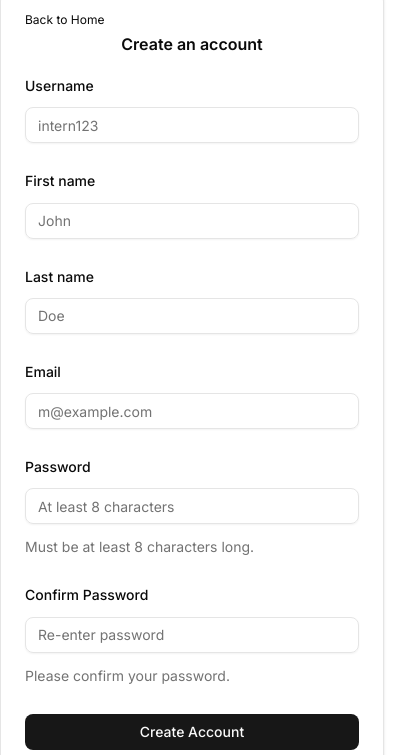
Scenario: SignupCard › validates email format
Type "newuser" into the field labelled "Username" at point(192, 125), box [25,107,359,143]
Type "New" into the field labelled "First name" at point(192, 220), box [25,202,359,238]
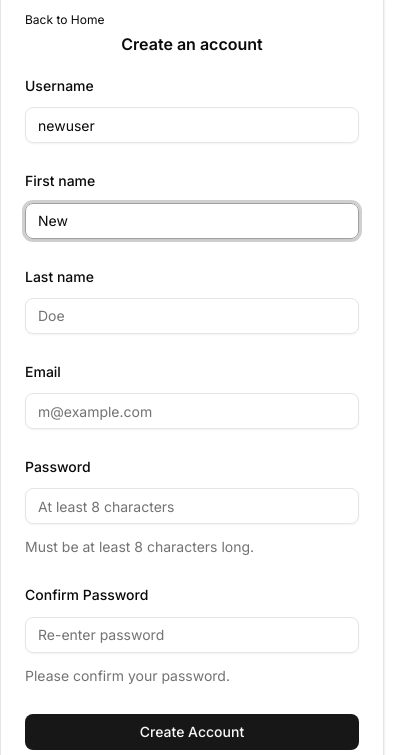
Type "User" into the field labelled "Last name" at point(192, 316), box [25,298,359,334]
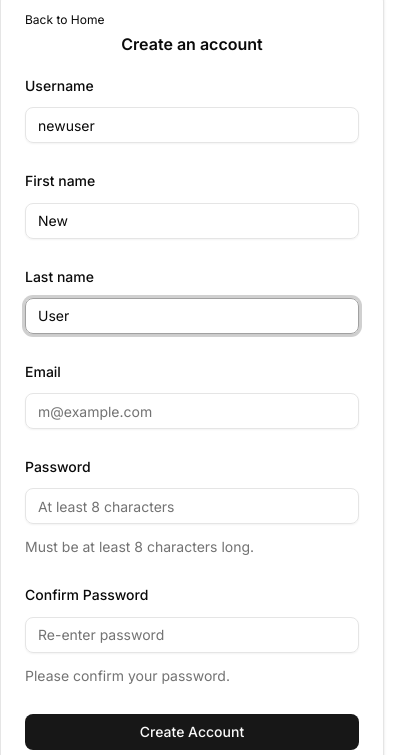
Type "x@y" into the field labelled "Email" at point(192, 411), box [25,393,359,429]
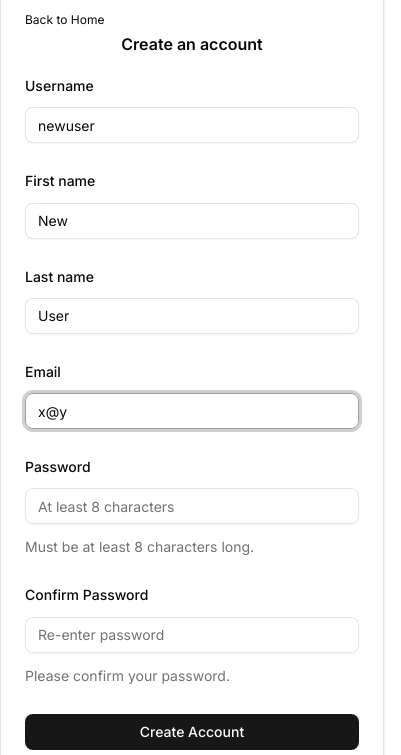
Type "password123" into the password field labelled "Password" at point(192, 506), box [25,488,359,524]
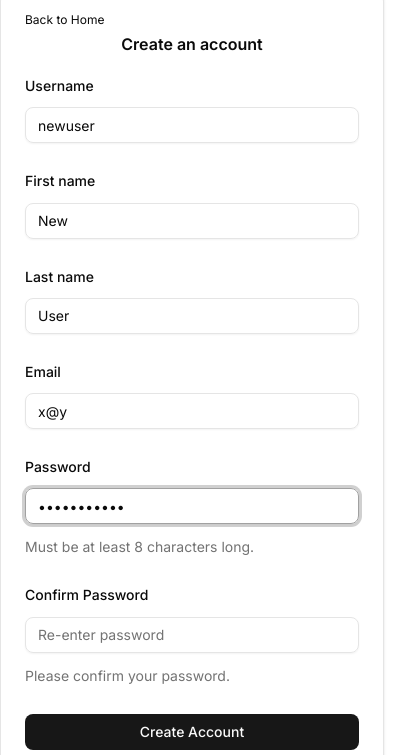
Type "password123" into the password field labelled "Confirm Password" at point(192, 634), box [25,616,359,652]
(page scrolled)
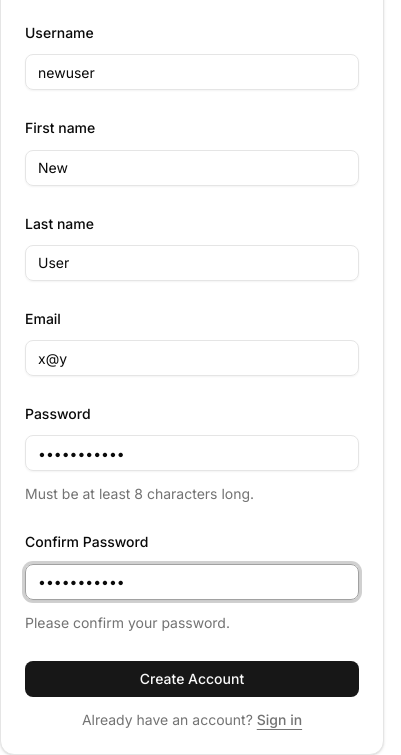
Submit the form named "Create Account"
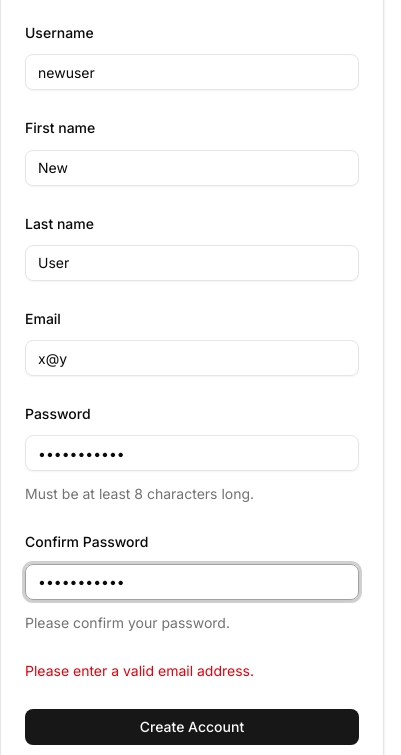
Expected: the text "Please enter a valid email address." is shown, [25,662,254,678]
